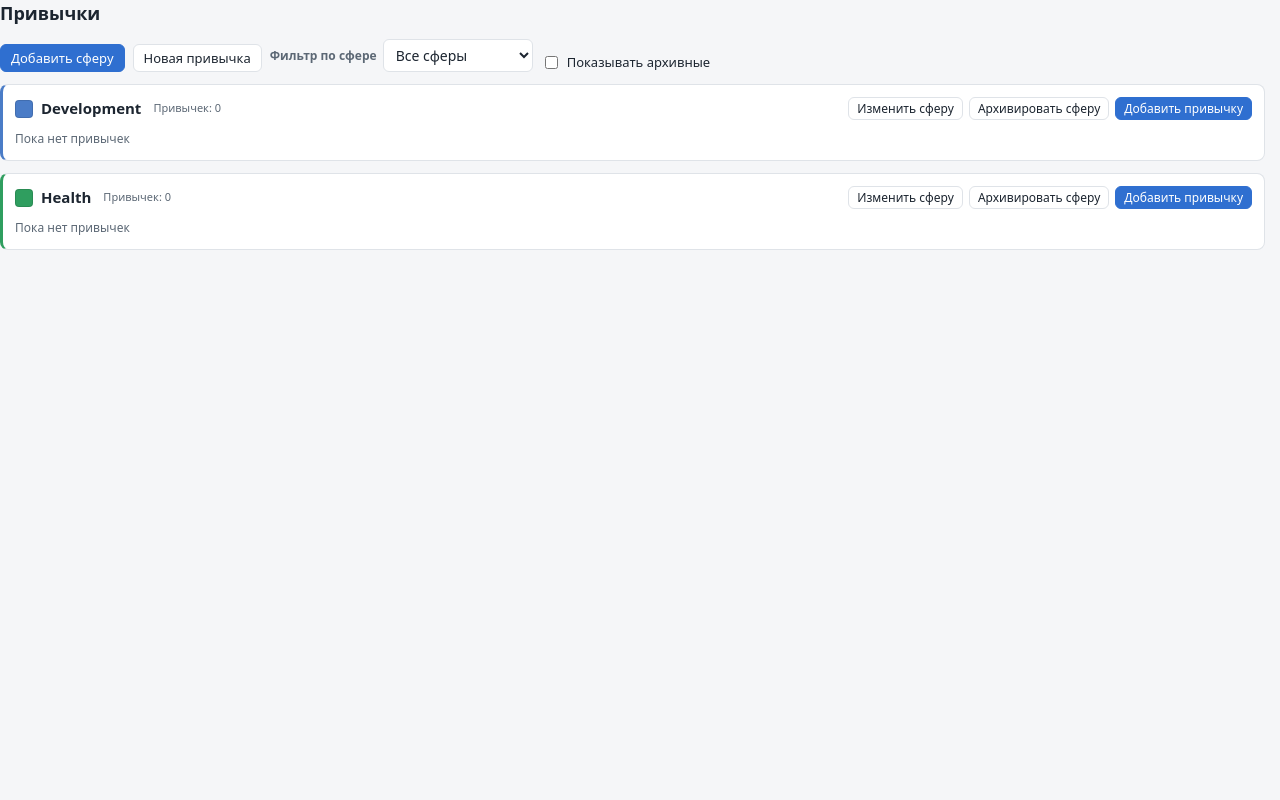
Test: HabitsPage › shows empty areas and creates a habit directly inside the chosen area
Expected: the text "Пока нет привычек" below "Development" is shown, [15,130,130,147]
Click the button "Добавить привычку" in the row of "Development".
click(1184, 108)  # box [1115,97,1252,120]
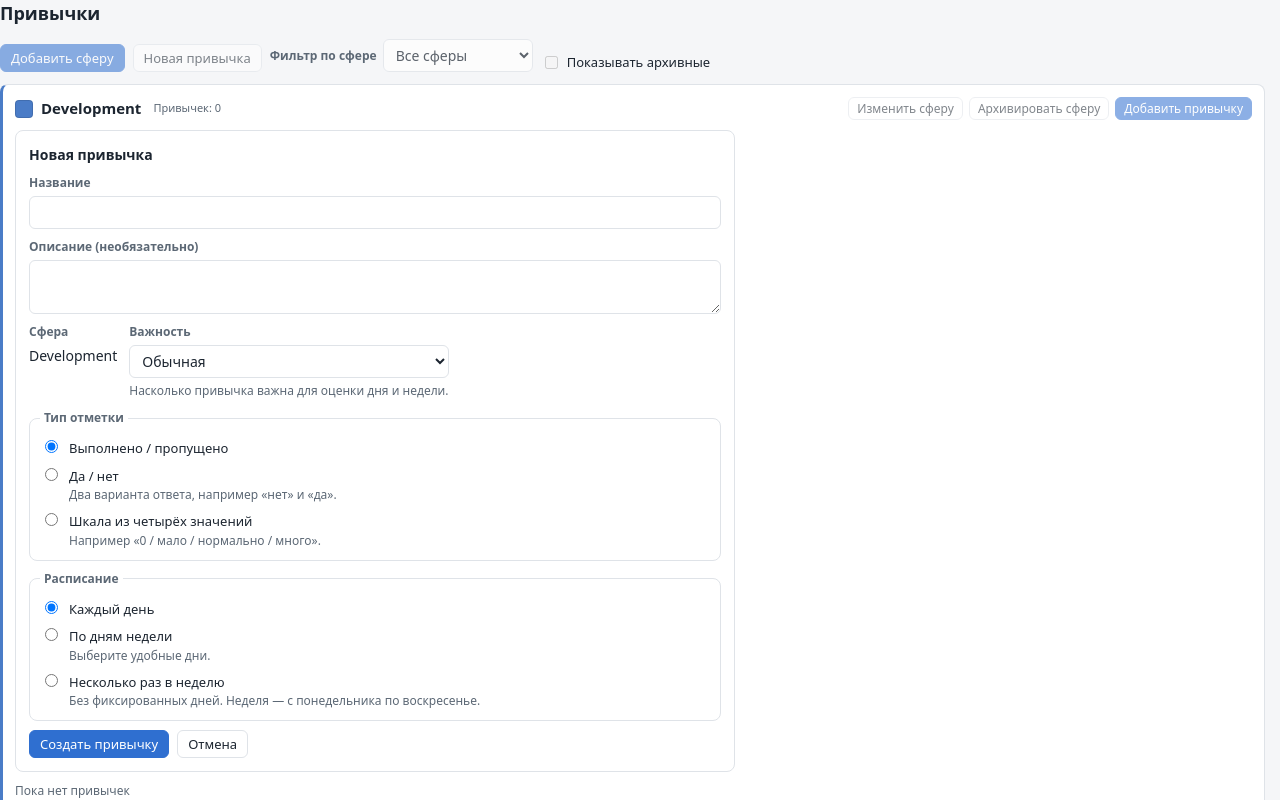
Type "Contextual habit" into the field labelled "Название".
click(375, 212); type("Contextual habit")  # box [29,196,721,229]
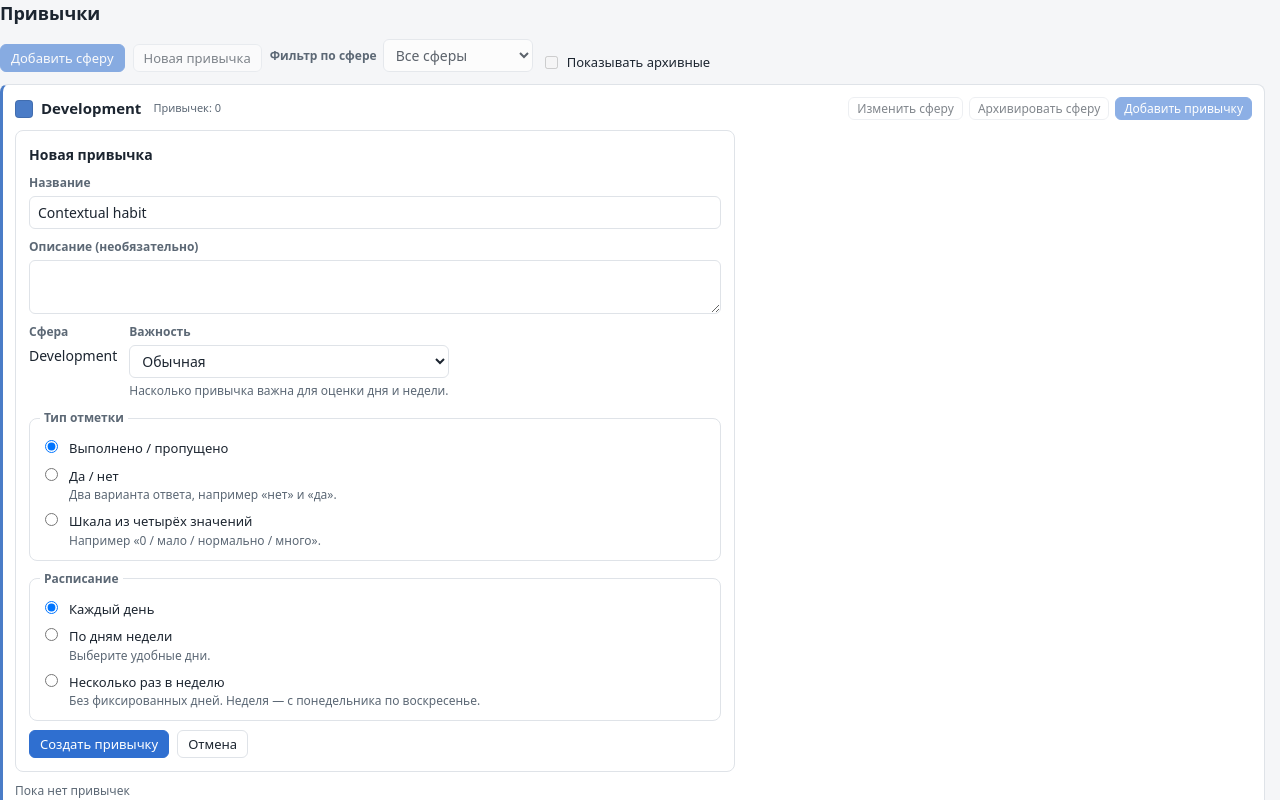
Click the button "Создать привычку".
click(99, 744)  # box [29,730,169,758]
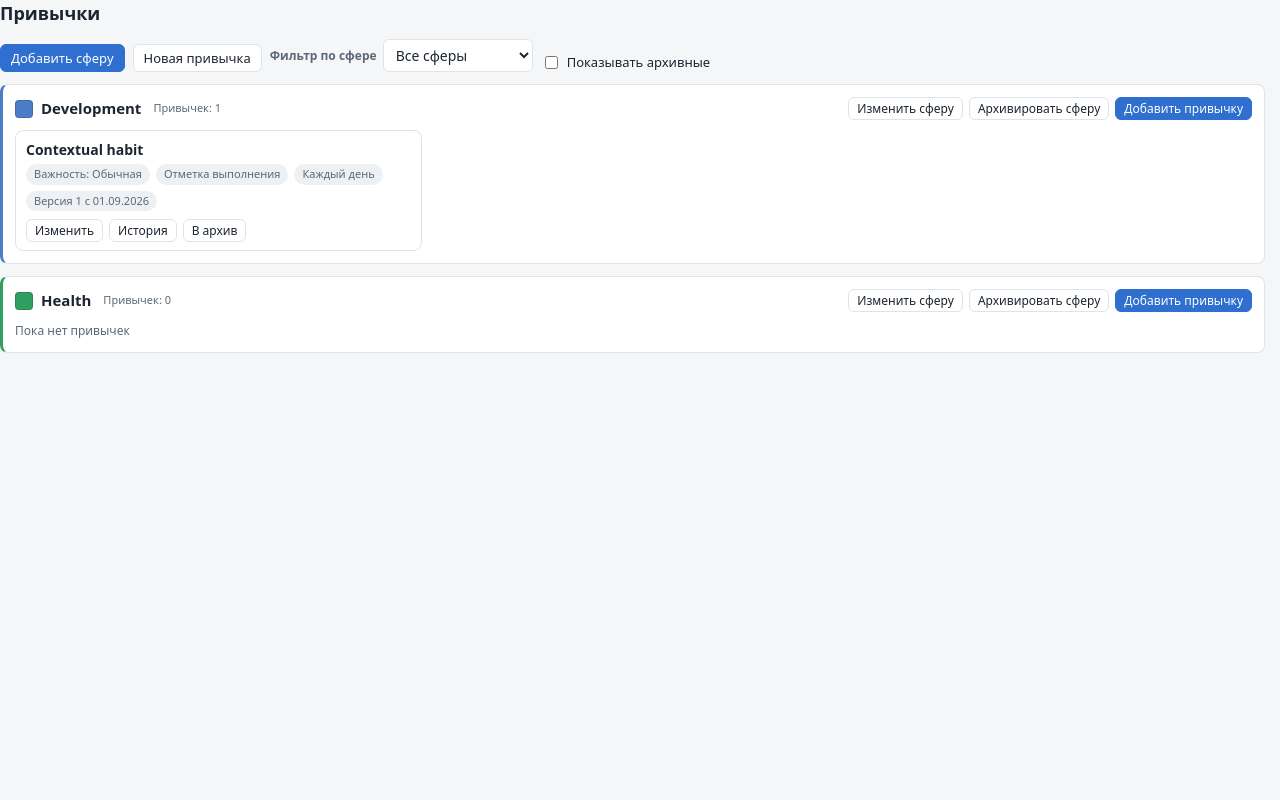
Expected: the text "Пока нет привычек" is shown, [15,322,130,339]
Expected: the text "Contextual habit" is shown, [26,140,144,159]
Expected: the text "Привычек: 1" is shown, [153,100,221,117]
